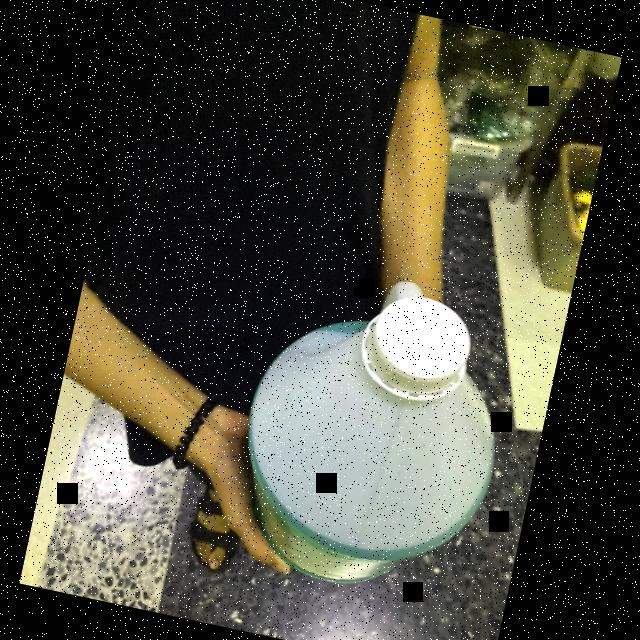chemical_plastic_gallon: (221, 250, 528, 610)
